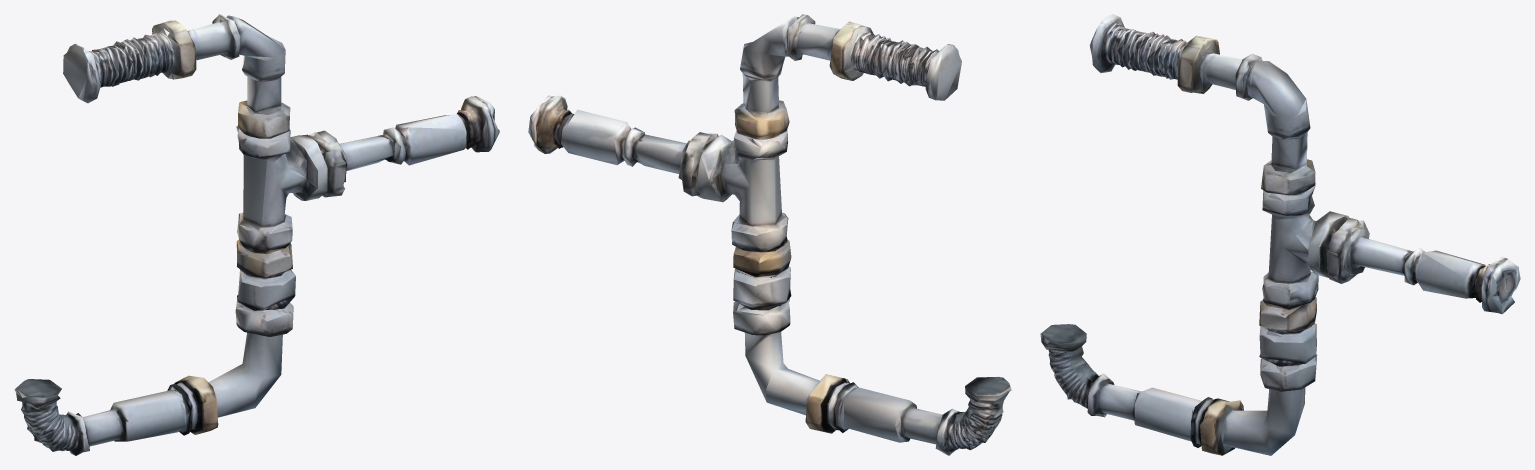
The model's file is hangar_pipe_riser.glb.
3 renders of one model, left to right at view 1: azimuth 30°, elevation 25°; view 2: azimuth 150°, elevation 25°; view 3: azimuth 330°, elevation 25°, orthographic.
Parts seen in each view (by area): view 1: hangar_pipe_riser; view 2: hangar_pipe_riser; view 3: hangar_pipe_riser.
Part boxes in pixels (left/top/right/bottom): hangar_pipe_riser: left=14, top=14, right=499, bottom=455; hangar_pipe_riser: left=528, top=14, right=1011, bottom=455; hangar_pipe_riser: left=1040, top=14, right=1520, bottom=455.
Bounding box in the file's own units: 0.3681 × 0.3086 × 0.0467.
Materials: 1 (1 with a texture image).
